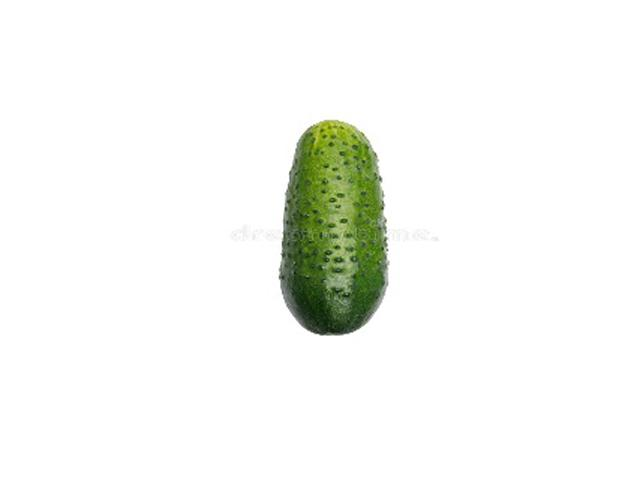cucumber: (279, 118, 390, 336)
